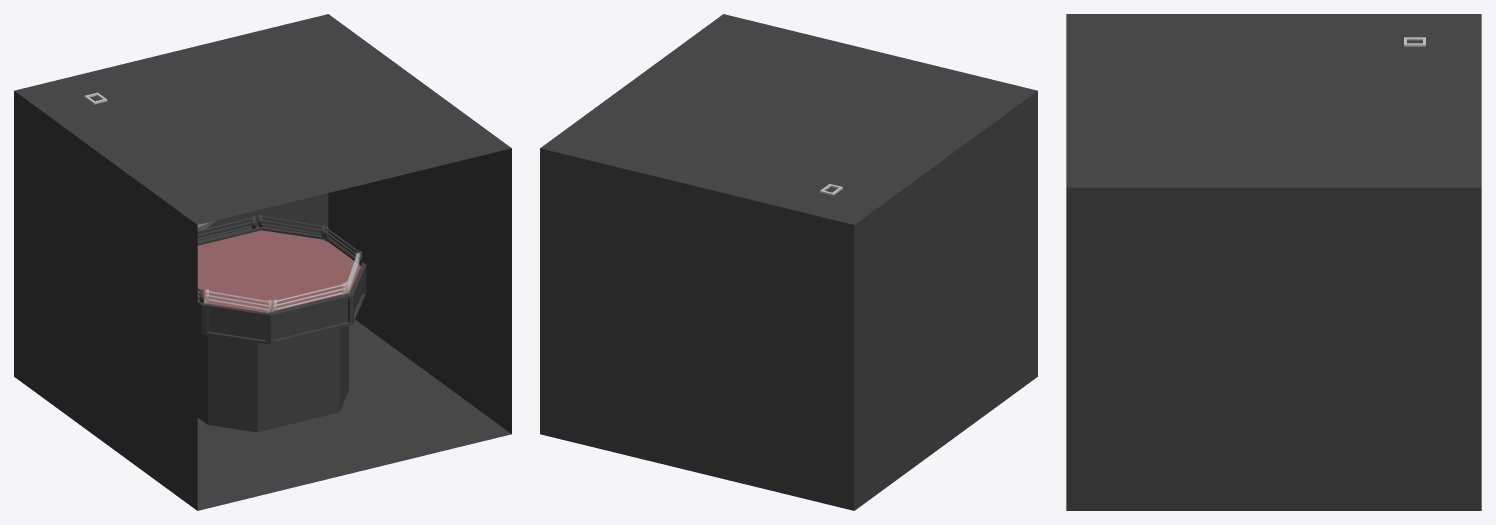
The model's file is Environment.fbx.
3 renders of one model, left to right at view 1: azimuth 30°, elevation 25°; view 2: azimuth 150°, elevation 25°; view 3: azimuth 270°, elevation 25°, orthographic. The views are drawn at different scales.
Visible parts, largest first — view 1: Cube.001, Cube, Cylinder.017, Cylinder.011, Cylinder.013; view 2: Cube.001; view 3: Cube.001.
Part boxes in pixels (box(x1,y1,x2,y2)): Cube.001: box(14, 14, 511, 510); Cube: box(197, 226, 366, 432); Cylinder.017: box(272, 282, 346, 312); Cylinder.011: box(258, 214, 325, 239); Cylinder.013: box(205, 289, 271, 312); Cube.001: box(540, 14, 1037, 510); Cube.001: box(1066, 14, 1481, 510).
Size of the model in its own units: 613 by 546 by 620.
